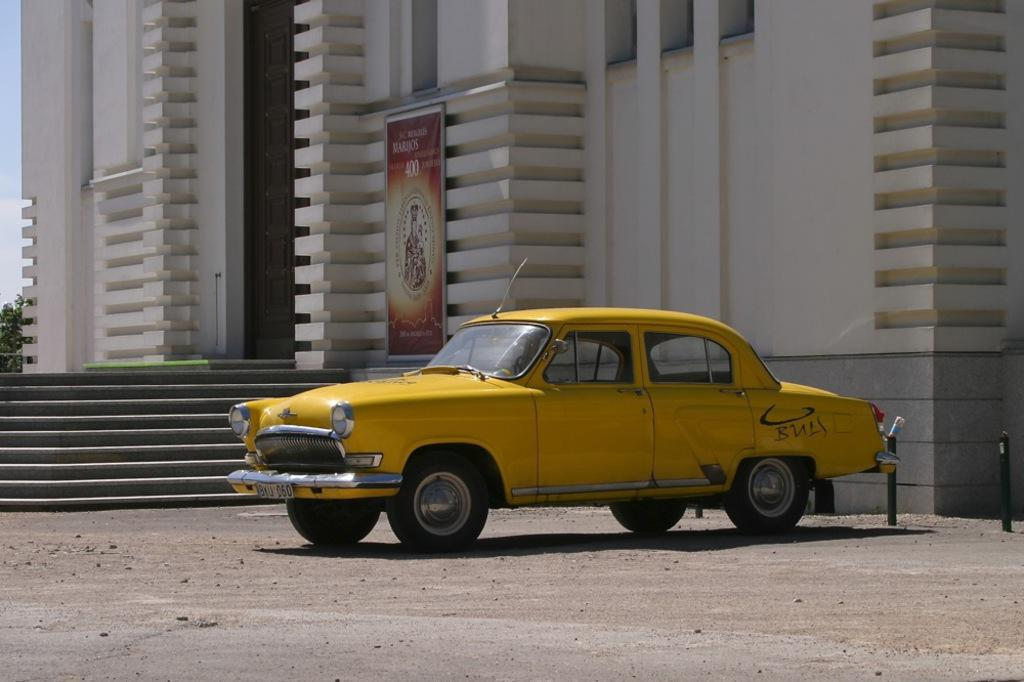taxi: (228, 258, 902, 552)
